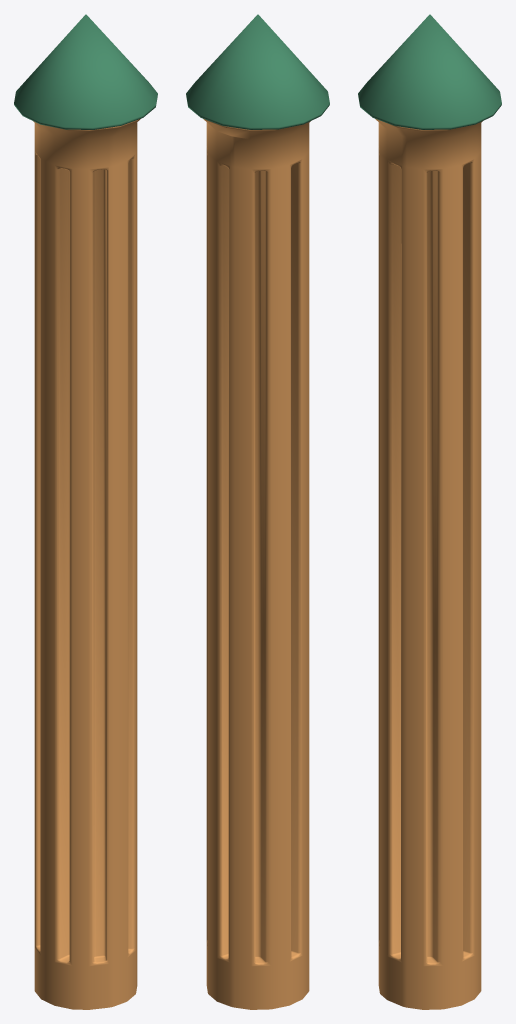
File: Torre3.fbx
The picture shows the model from 3 angles, left to right: view 1: azimuth 30°, elevation 25°; view 2: azimuth 150°, elevation 25°; view 3: azimuth 330°, elevation 25°; orthographic projection.
Visible parts, largest first — view 1: Torre delgada.003; view 2: Torre delgada.003; view 3: Torre delgada.003.
Boxes of the visible parts, bbox=[...] form: Torre delgada.003: bbox=[14, 14, 157, 1009]; Torre delgada.003: bbox=[186, 14, 329, 1009]; Torre delgada.003: bbox=[358, 14, 501, 1009].
Bounding box in the file's own units: 55.37 × 425 × 57.93.
